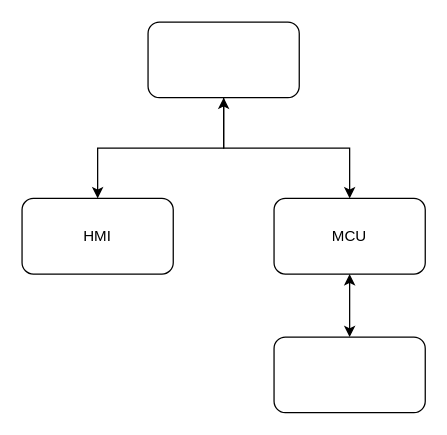
Some shapes in this 447 by 435 pixel diagram are drawn without their labels. The shapes that lost their labels are listed below. From the top down, each one's centre as x and y in pixels, then its label:
At [223,59]: "Supervisory computer".
At [349,374]: "Physical equipment".
